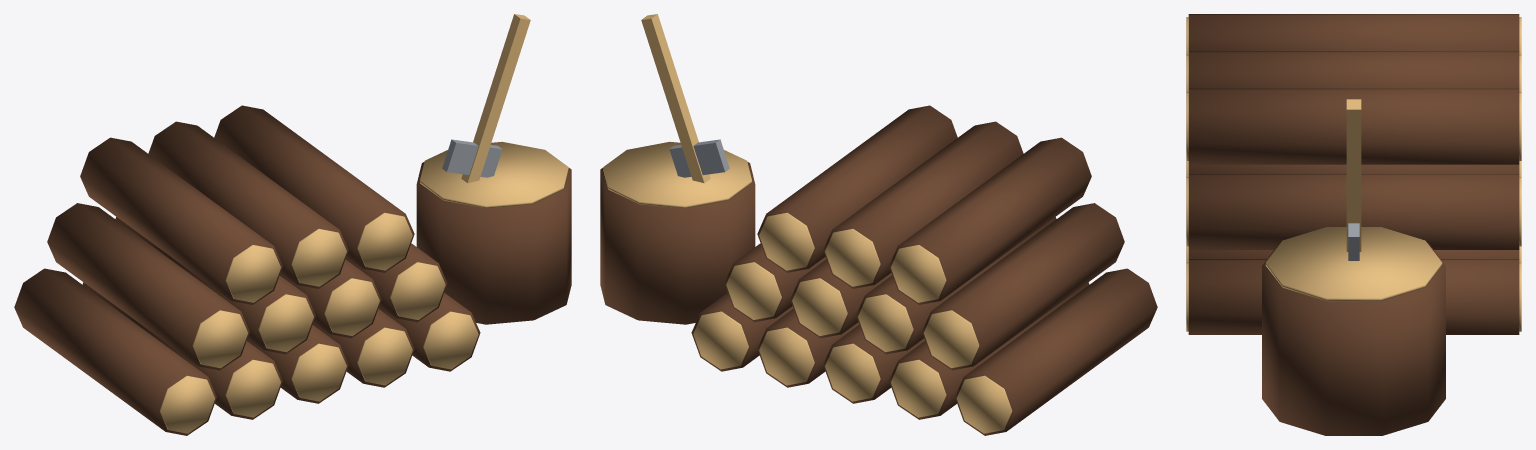
The model's file is woodpile.glb.
The picture shows the model from 3 angles, left to right: view 1: azimuth 30°, elevation 25°; view 2: azimuth 150°, elevation 25°; view 3: azimuth 270°, elevation 25°; orthographic projection. The views are drawn at different scales.
Parts seen in each view (by area): view 1: woodpile; view 2: woodpile; view 3: woodpile.
Boxes of the visible parts, box(x1,y1,x2,y2) form: woodpile: box(14, 14, 571, 435); woodpile: box(600, 14, 1157, 435); woodpile: box(1186, 14, 1521, 435).
Bounding box in the file's own units: 1.73 × 0.9387 × 0.912.
